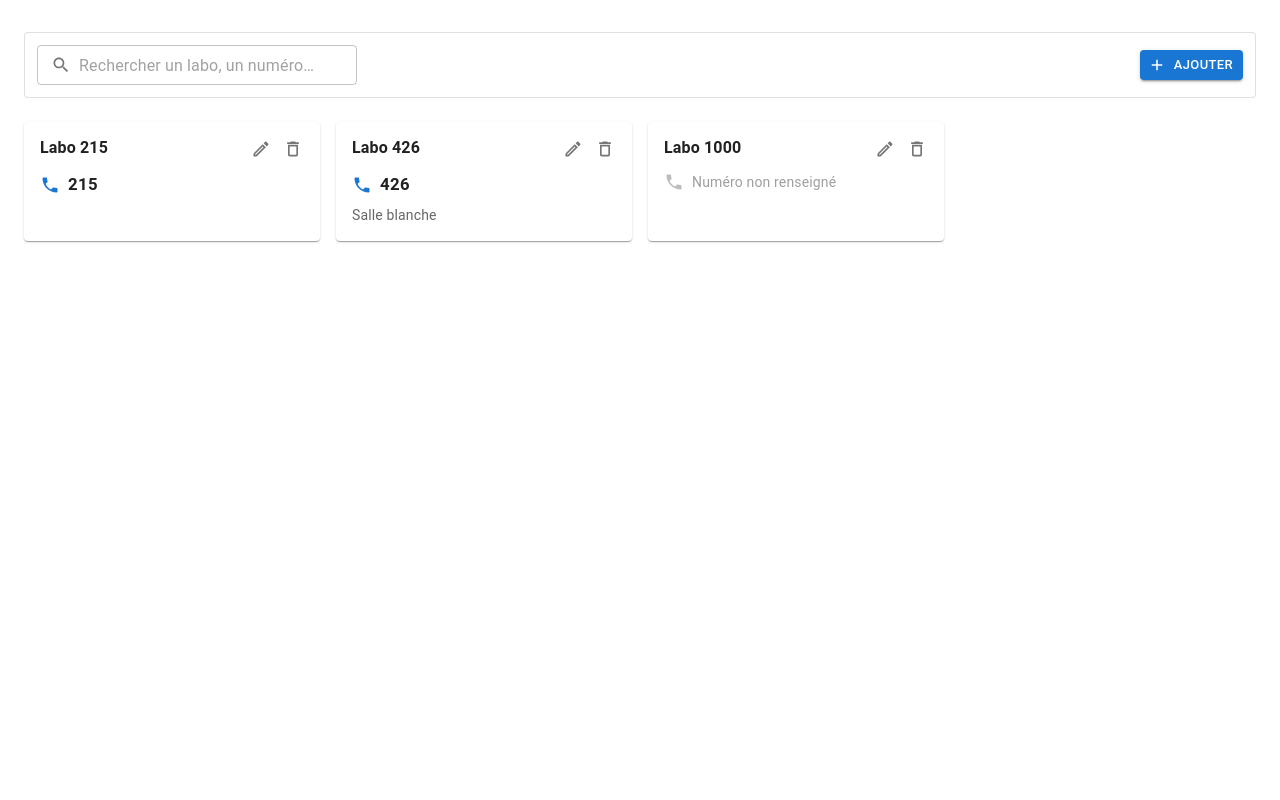
EquipeLaboratoiresPage › supprime un contact après confirmation (DELETE)
Expected: the heading "Labo 426" is shown, [352,138,420,157]
Click the button named "Supprimer Labo 426". click: (605, 149)
box: [590,134,620,164]
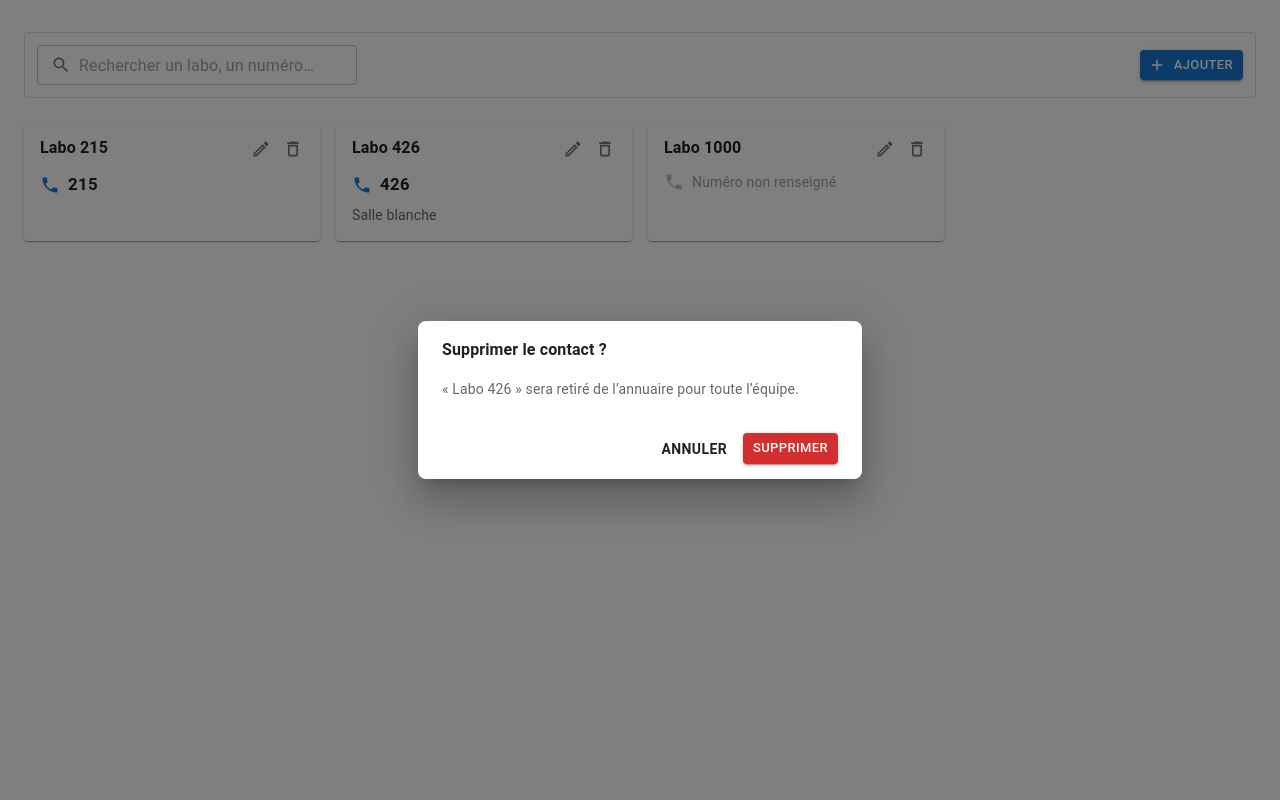
Result: the text "« Labo 426 » sera retiré de l’annuaire pour toute l’équipe." is shown at [442,378,838,398]
Click the button "Supprimer". click: (790, 449)
box: [743,433,838,464]
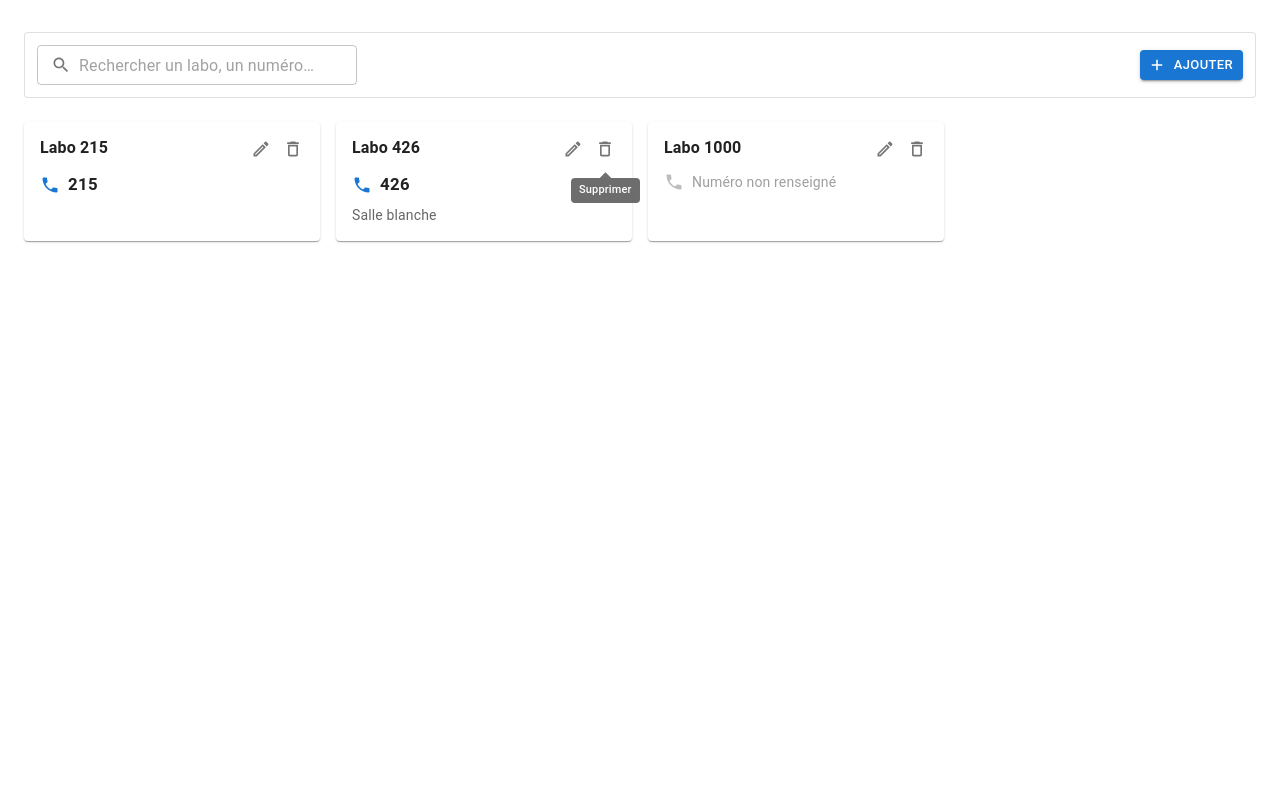
Result: the heading "Supprimer le contact ?" is gone
